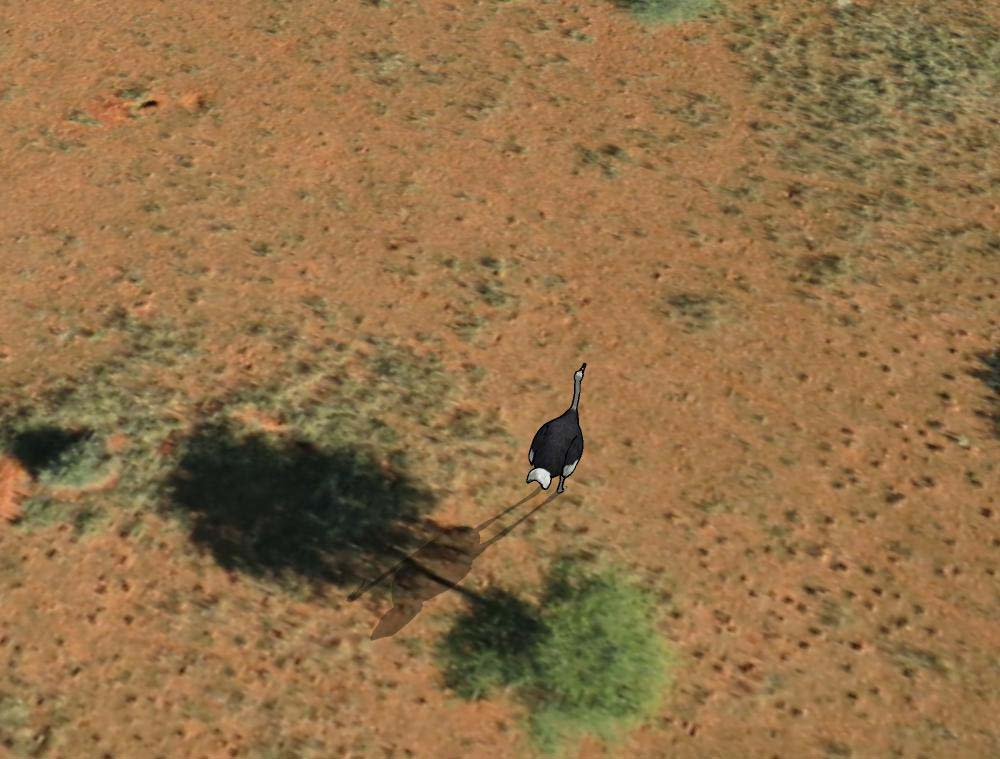springbok: (526, 363, 592, 500)
